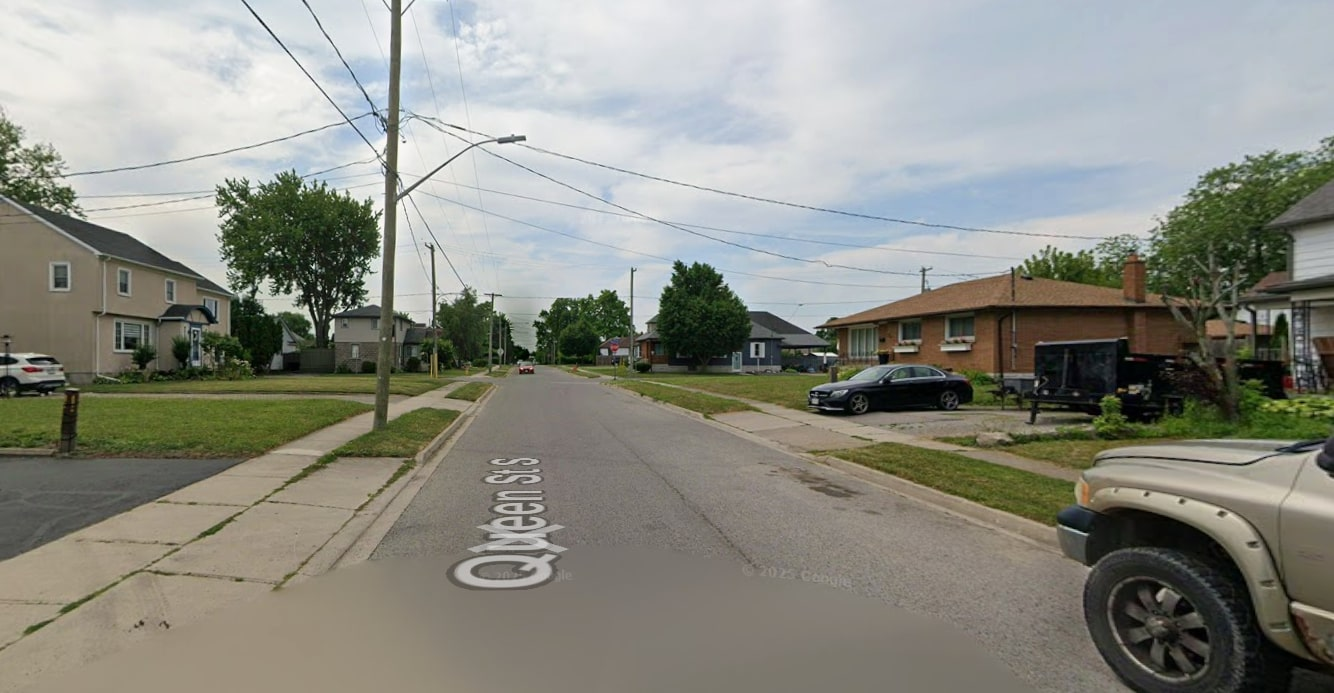cracks: (613, 437, 757, 571), (769, 454, 866, 509)
